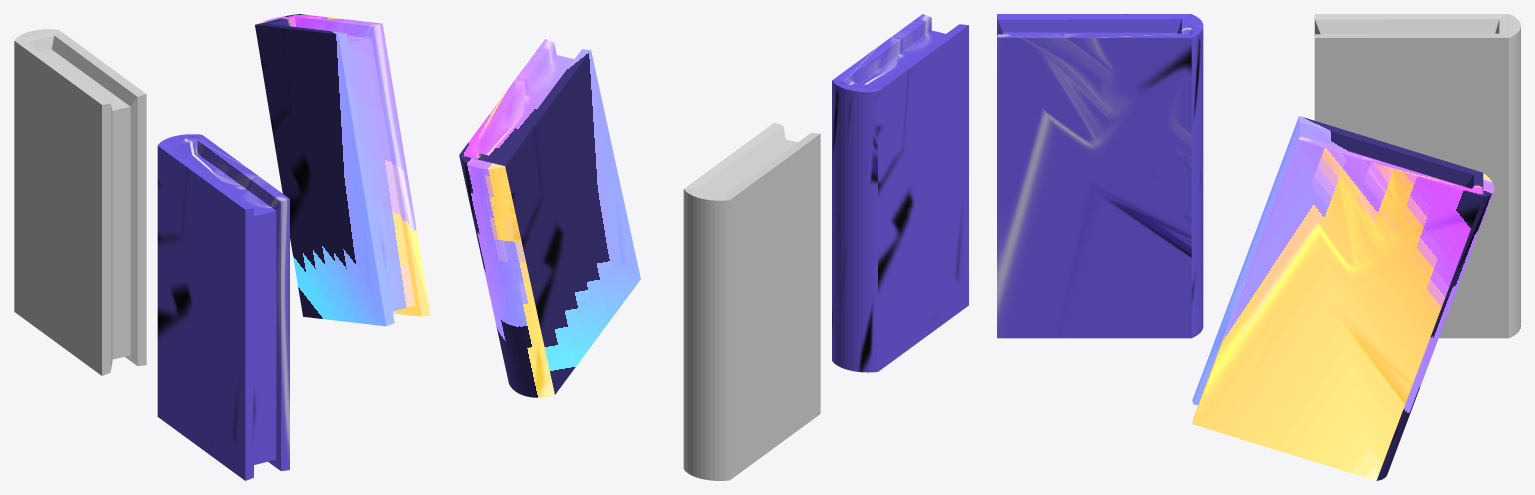
The picture shows the model from 3 angles, left to right: view 1: azimuth 30°, elevation 25°; view 2: azimuth 150°, elevation 25°; view 3: azimuth 270°, elevation 25°; orthographic projection. The views are drawn at different scales.
Parts seen in each view (by area): view 1: Cube (×3); view 2: Cube (×3); view 3: Cube (×3).
Part boxes in pixels (x1,y1,x2,y2): Cube (×3): (14,14,430,480); Cube (×3): (459,14,968,480); Cube (×3): (997,14,1520,480).
Size of the model in its own units: 3.6 by 3.91 by 5.39.
Materials: 3 (2 with a texture image).
